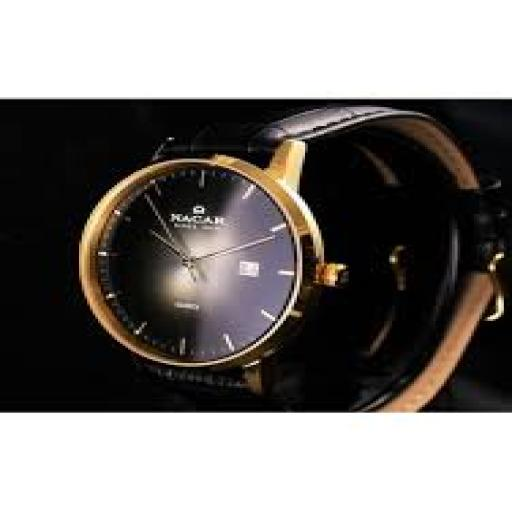KolSaati: (20, 101, 502, 411)
